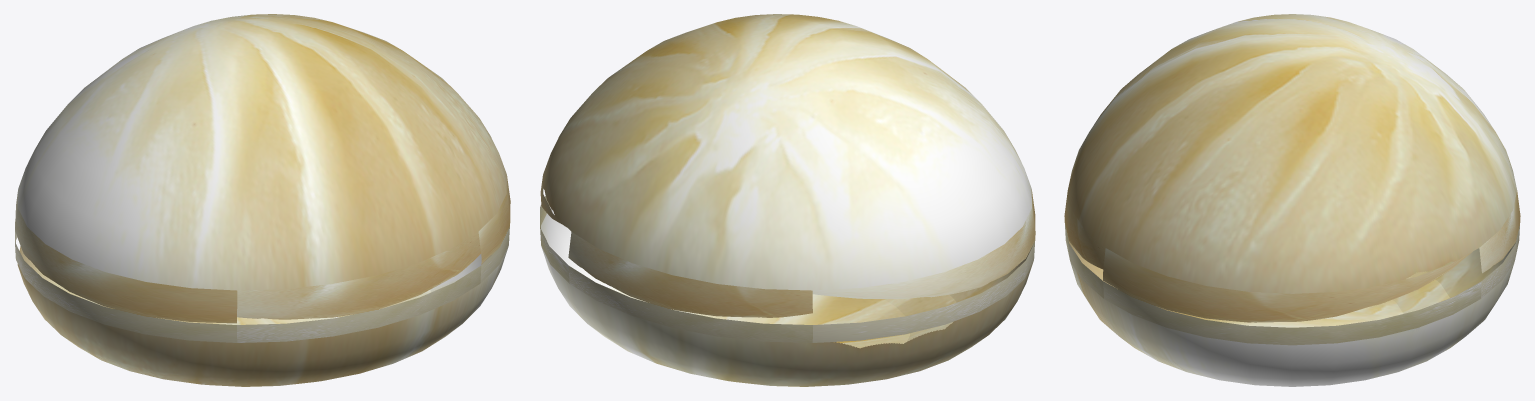
The model's file is gtjzxlb.FBX.
3 views of the same model, side by side, from view 1: azimuth 30°, elevation 25°; view 2: azimuth 150°, elevation 25°; view 3: azimuth 270°, elevation 25° (orthographic). The views are drawn at different scales.
Parts seen in each view (by area): view 1: Sphere001; view 2: Sphere001; view 3: Sphere001.
Part boxes in pixels (x1,y1,x2,y2): Sphere001: [15, 14, 510, 386]; Sphere001: [540, 14, 1035, 386]; Sphere001: [1064, 14, 1520, 386].
Bounding box in the file's own units: 0.0697 × 0.0439 × 0.0639.
